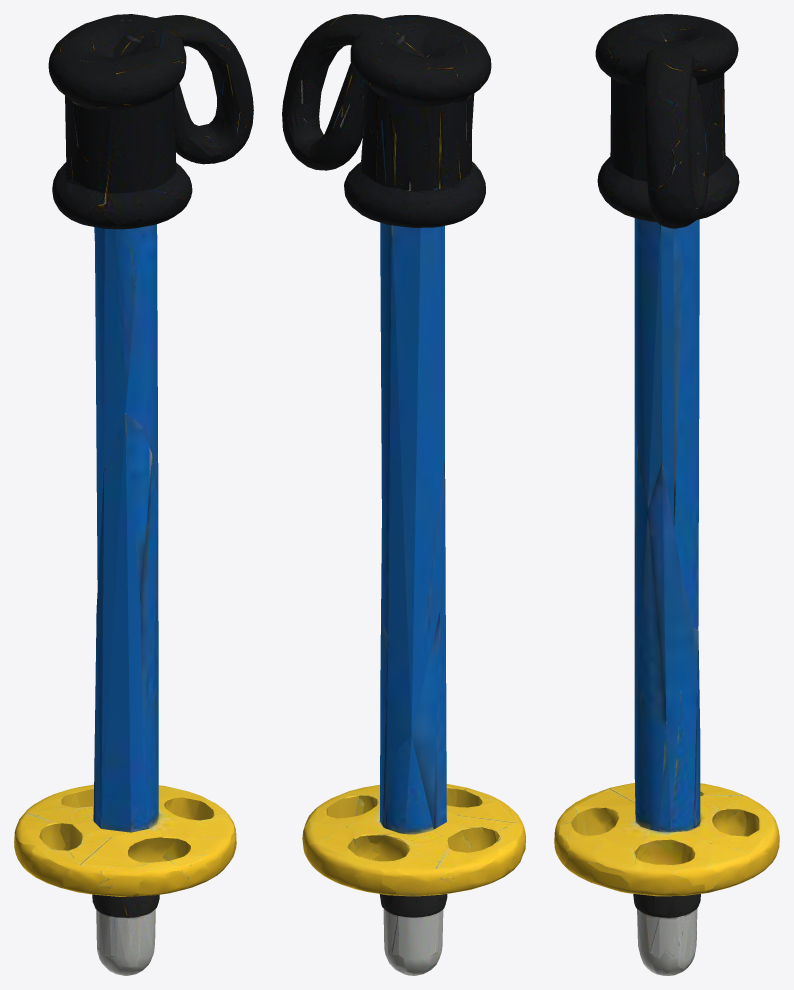
Rendered from udstyr-skistav.glb.
3 renders of one model, left to right at view 1: azimuth 30°, elevation 25°; view 2: azimuth 150°, elevation 25°; view 3: azimuth 270°, elevation 25°, orthographic.
Size of the model in its own units: 0.4731 by 1.9 by 0.4108.
1 material, 1 textured.
